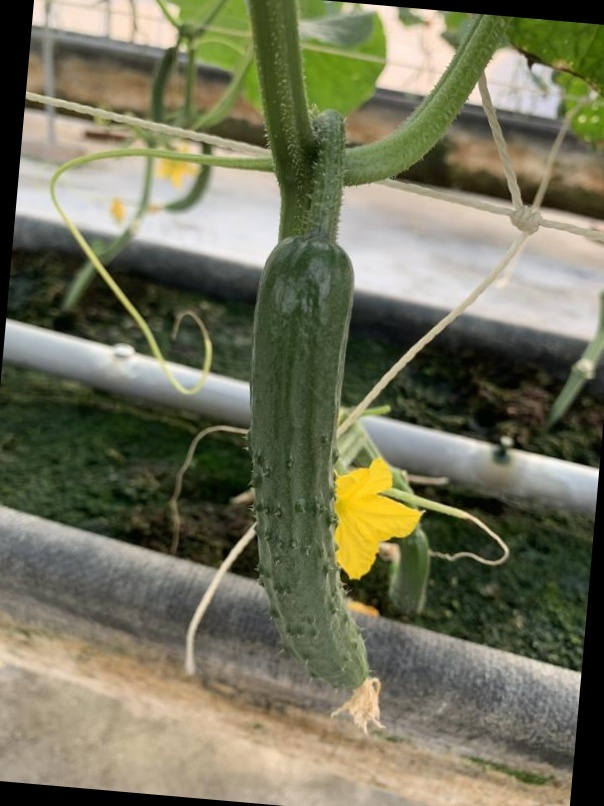mature: (224, 231, 393, 721)
